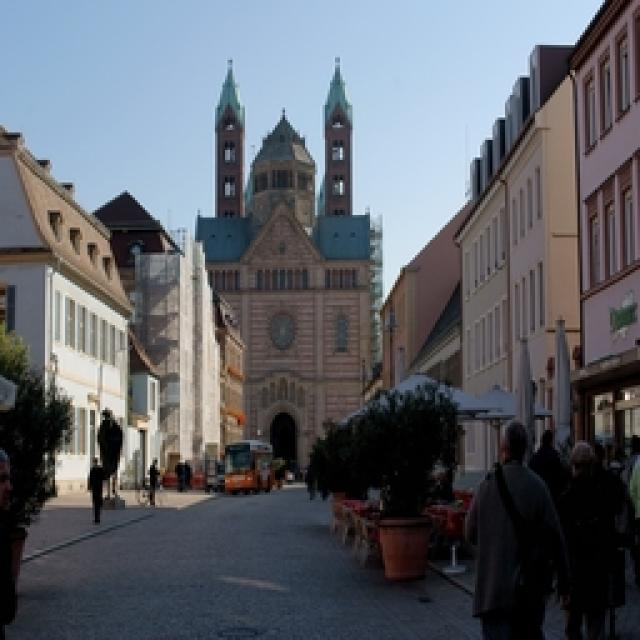Abbey: (191, 51, 381, 481)
